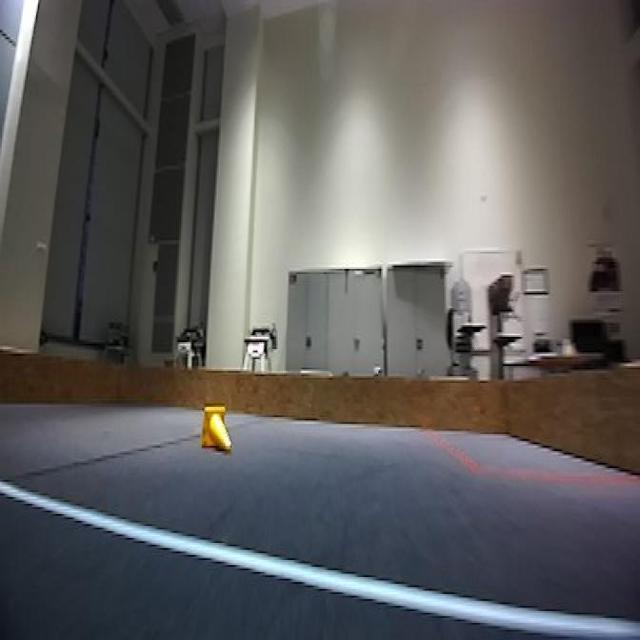frc_cone: (199, 400, 233, 456)
